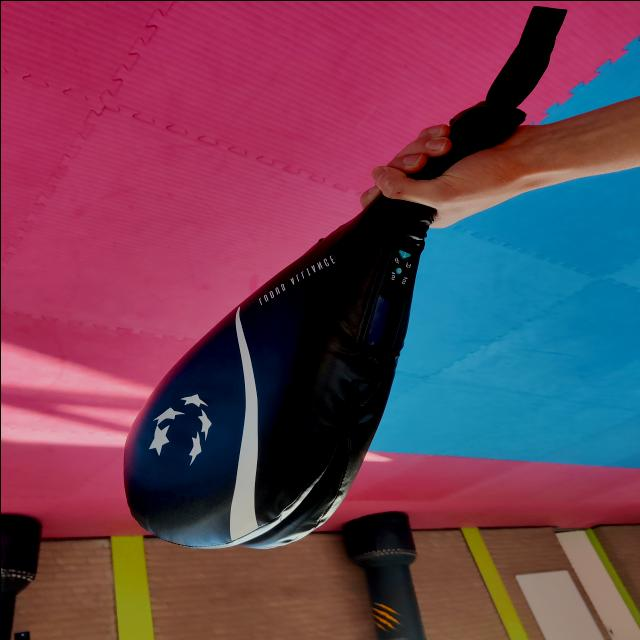paddle: (118, 98, 530, 552)
